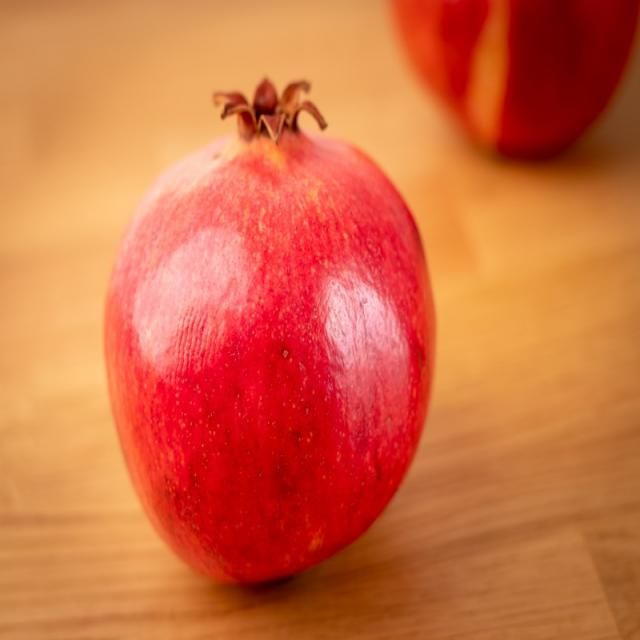pomegranate: (99, 76, 438, 592)
